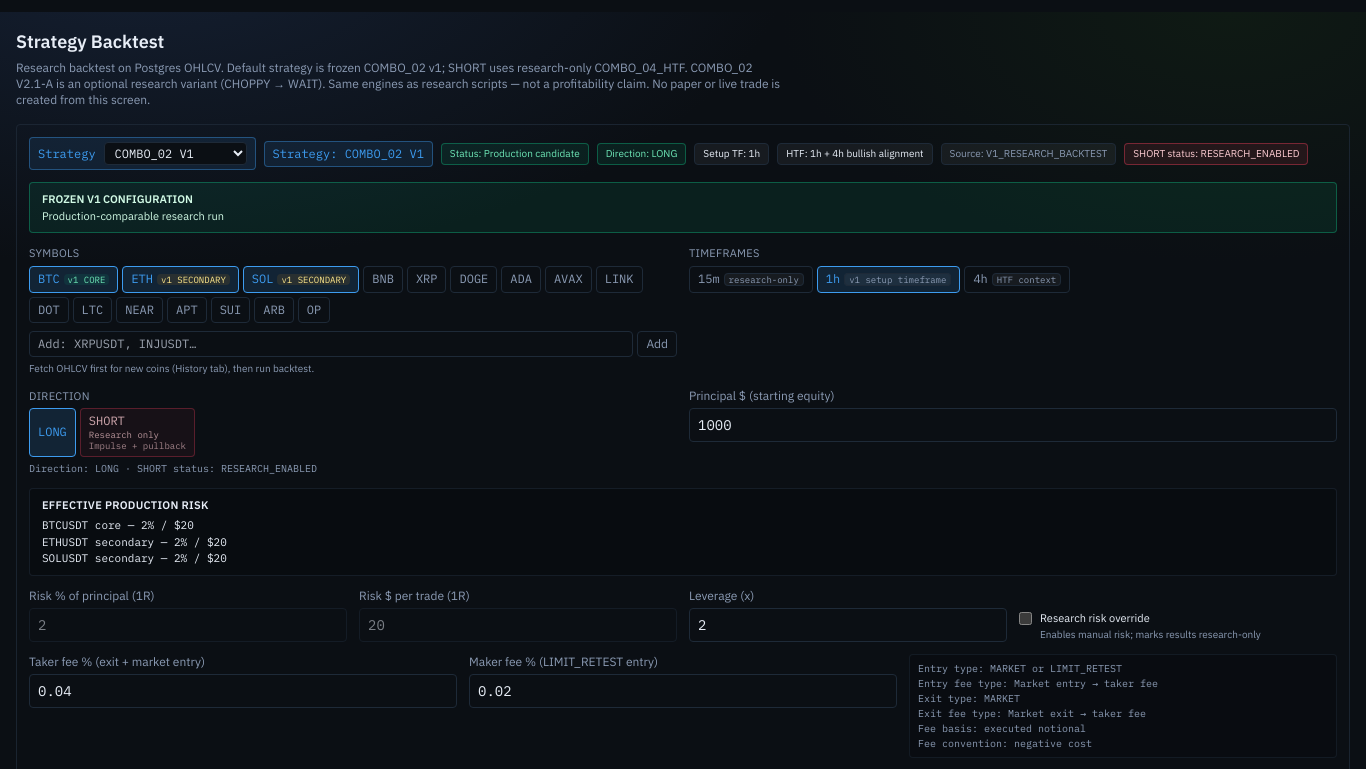
it: BacktestPanel interaction paths › 1. BTC v1 risk rendering
This screenshot has width=1366, height=769.
Click the button with aria-label "ETHUSDT — v1 SECONDARY": x=181, y=279 [122,266,239,292]
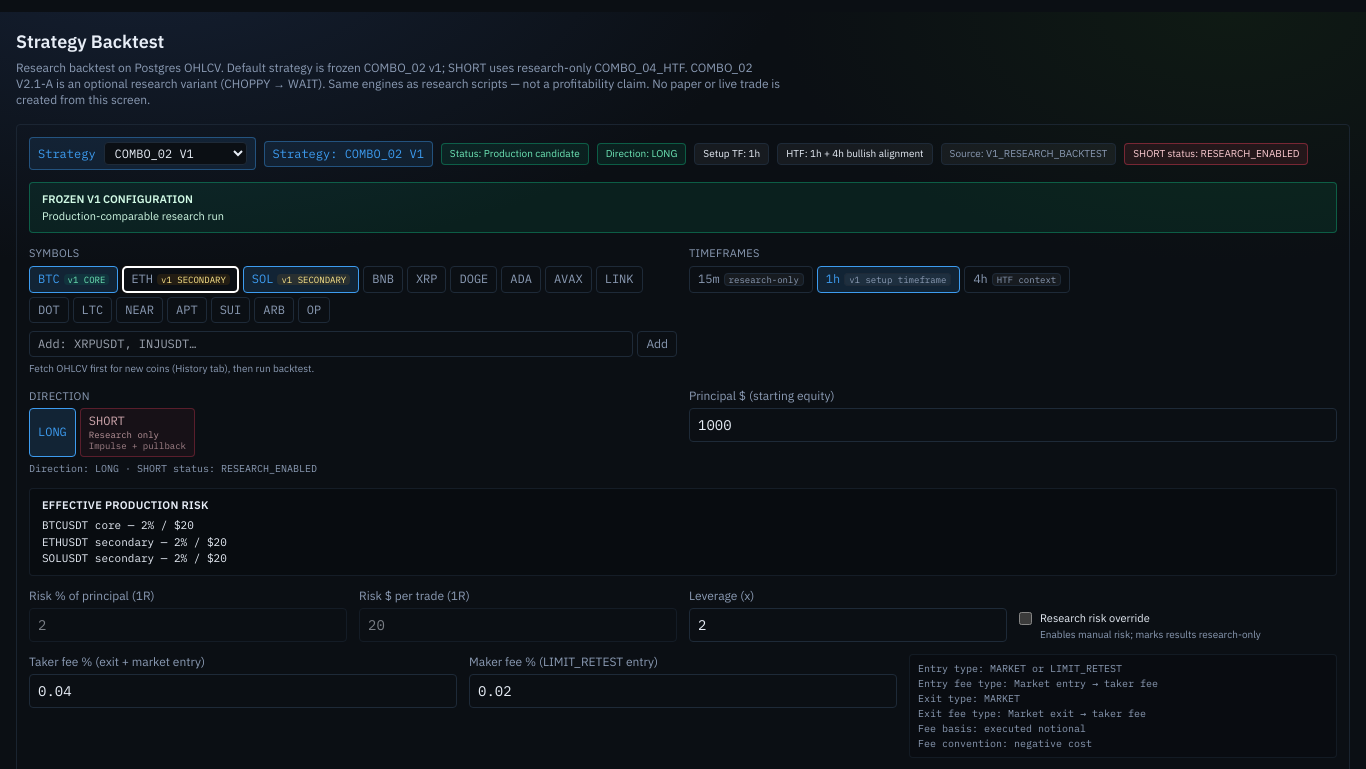
Click the button "SOLv1 SECONDARY": x=301, y=279 [243,266,359,292]
(page scrolled)
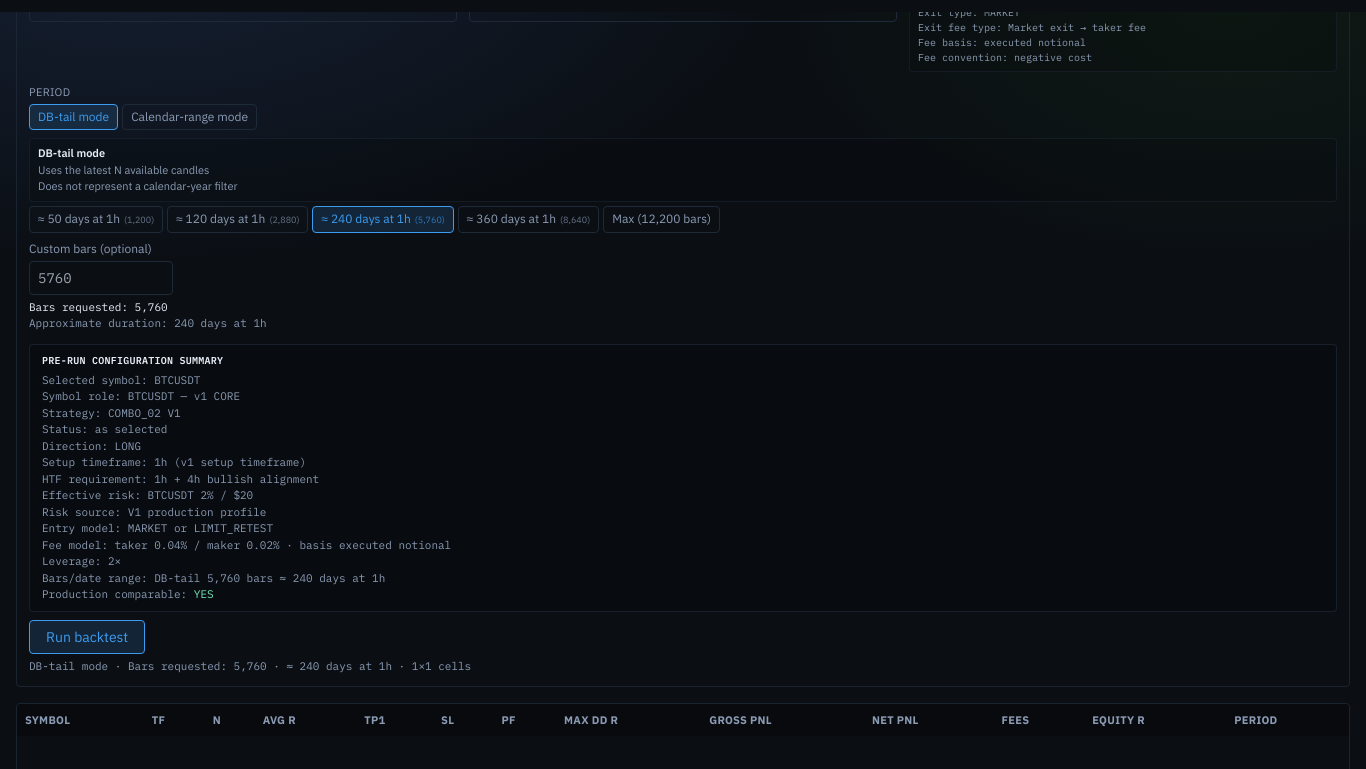
Now the text "Symbol role: BTCUSDT — v1 CORE" is shown, box [42,389,240,403]
Now the text "Production comparable: YES" is shown, box [42,587,214,601]
Now the text "Risk source: V1 production profile" is shown, box [42,504,266,518]
